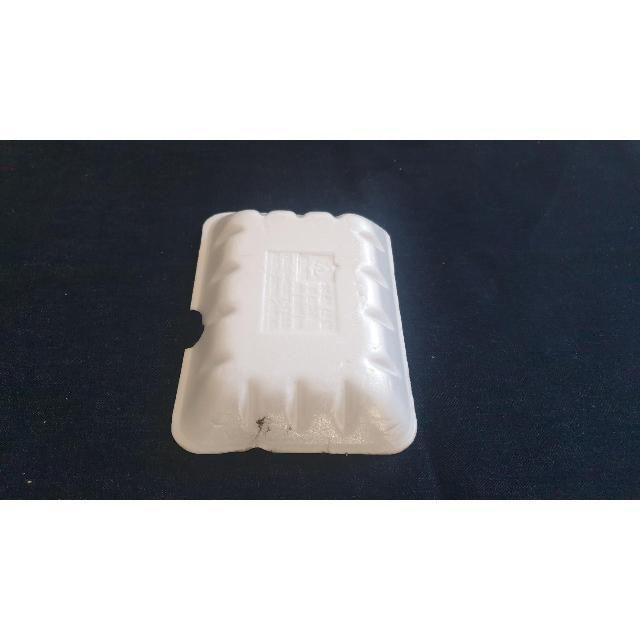Plastico descartable: (170, 210, 419, 458)
